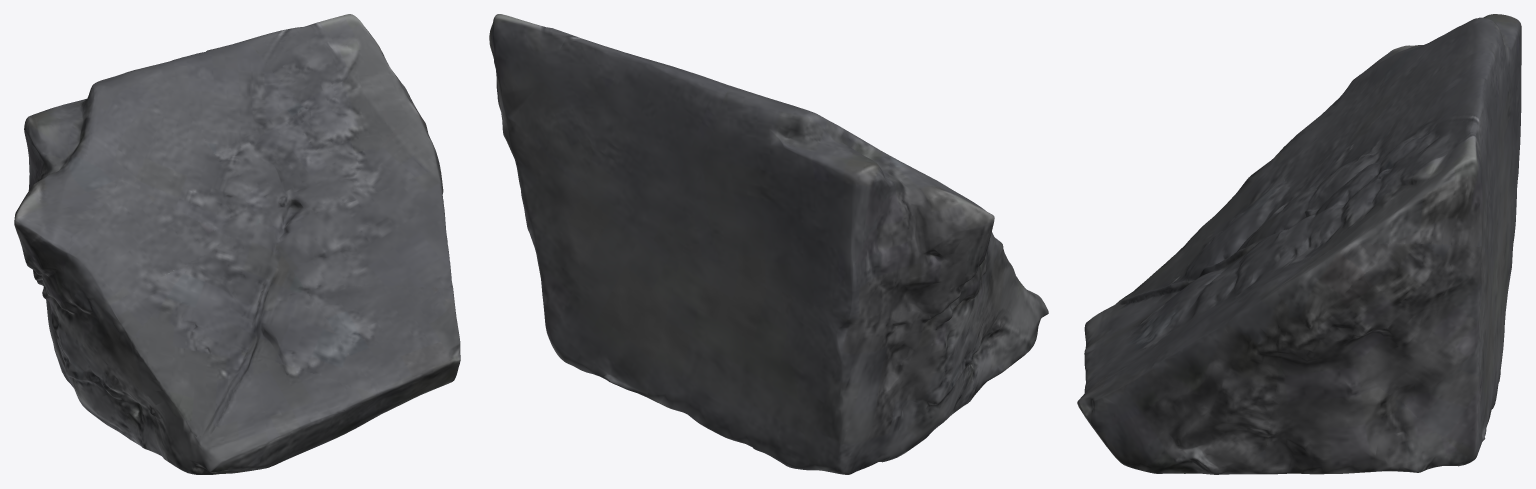
The model's file is fern.glb.
The picture shows the model from 3 angles, left to right: view 1: azimuth 30°, elevation 25°; view 2: azimuth 150°, elevation 25°; view 3: azimuth 270°, elevation 25°; orthographic projection. The views are drawn at different scales.
Visible parts, largest first — view 1: tripo_node_a49d2975-28af-42b9-856d-946cceeae592; view 2: tripo_node_a49d2975-28af-42b9-856d-946cceeae592; view 3: tripo_node_a49d2975-28af-42b9-856d-946cceeae592.
Boxes of the visible parts, box(x1,y1,x2,y2) form: tripo_node_a49d2975-28af-42b9-856d-946cceeae592: box(14, 14, 460, 474); tripo_node_a49d2975-28af-42b9-856d-946cceeae592: box(489, 14, 1048, 474); tripo_node_a49d2975-28af-42b9-856d-946cceeae592: box(1077, 14, 1521, 474).
Bounding box in the file's own units: 0.18 × 0.1338 × 0.1374.
Materials: 1 (1 with a texture image).
